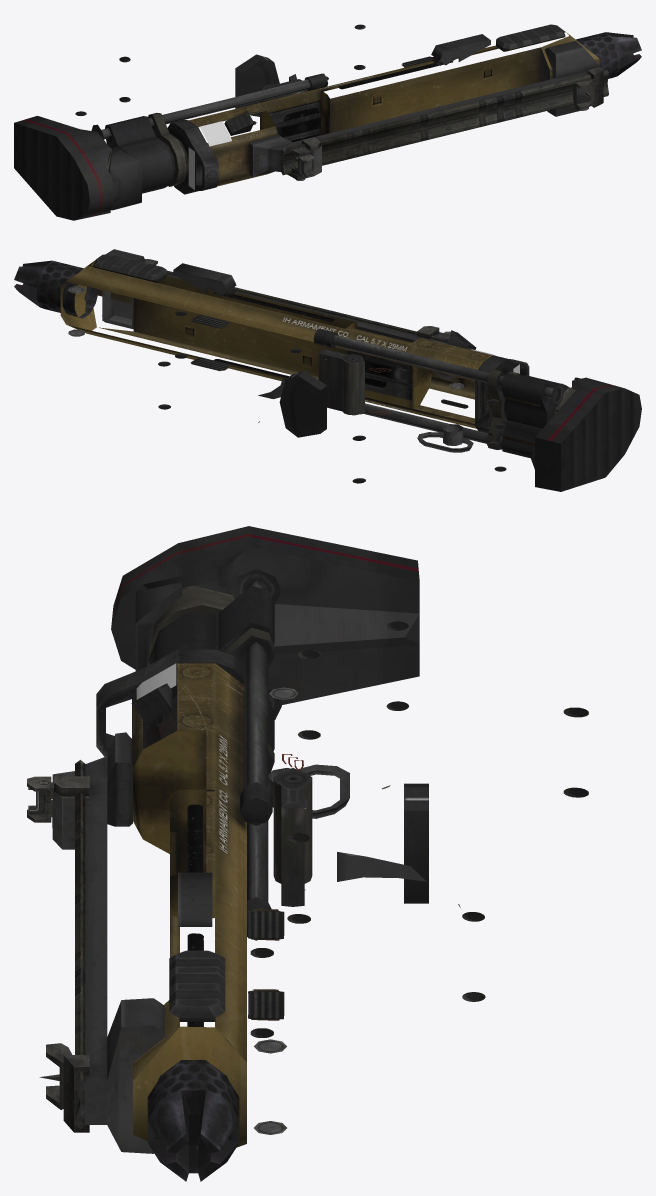
Rendered from t6_wpn_smg_pdw57_world_LOD0.obj.
The picture shows the model from 3 angles, top to bottom: view 1: azimuth 30°, elevation 25°; view 2: azimuth 150°, elevation 25°; view 3: azimuth 270°, elevation 25°; orthographic projection. The views are drawn at different scales.
Visible parts, largest first — view 1: mtl_t6_wpn_smg_pdw57_camo2, mtl_t6_wpn_smg_pdw57_camo1, mtl_t6_wpn_smg_pdw57_camo3, mtl_player_icon_world; view 2: mtl_t6_wpn_smg_pdw57_camo2, mtl_t6_wpn_smg_pdw57_camo1, mtl_t6_wpn_smg_pdw57_camo3, mtl_t6_wpn_smg_pdw57_camo4; view 3: mtl_t6_wpn_smg_pdw57_camo2, mtl_t6_wpn_smg_pdw57_camo1, mtl_t6_wpn_smg_pdw57_camo3.
Boxes of the visible parts, x1,y1,x2,y2 form: mtl_t6_wpn_smg_pdw57_camo2: (14,24,641,220); mtl_t6_wpn_smg_pdw57_camo1: (189,30,599,186); mtl_t6_wpn_smg_pdw57_camo3: (75,24,620,210); mtl_player_icon_world: (200,121,231,146); mtl_t6_wpn_smg_pdw57_camo2: (14,254,641,491); mtl_t6_wpn_smg_pdw57_camo1: (60,260,492,428); mtl_t6_wpn_smg_pdw57_camo3: (37,249,553,483); mtl_t6_wpn_smg_pdw57_camo4: (214,359,468,408); mtl_t6_wpn_smg_pdw57_camo2: (27,526,460,1181); mtl_t6_wpn_smg_pdw57_camo1: (133,663,246,1147); mtl_t6_wpn_smg_pdw57_camo3: (28,581,588,1120).
Bounding box in the file's own units: 50.11 × 7.52 × 23.11.
